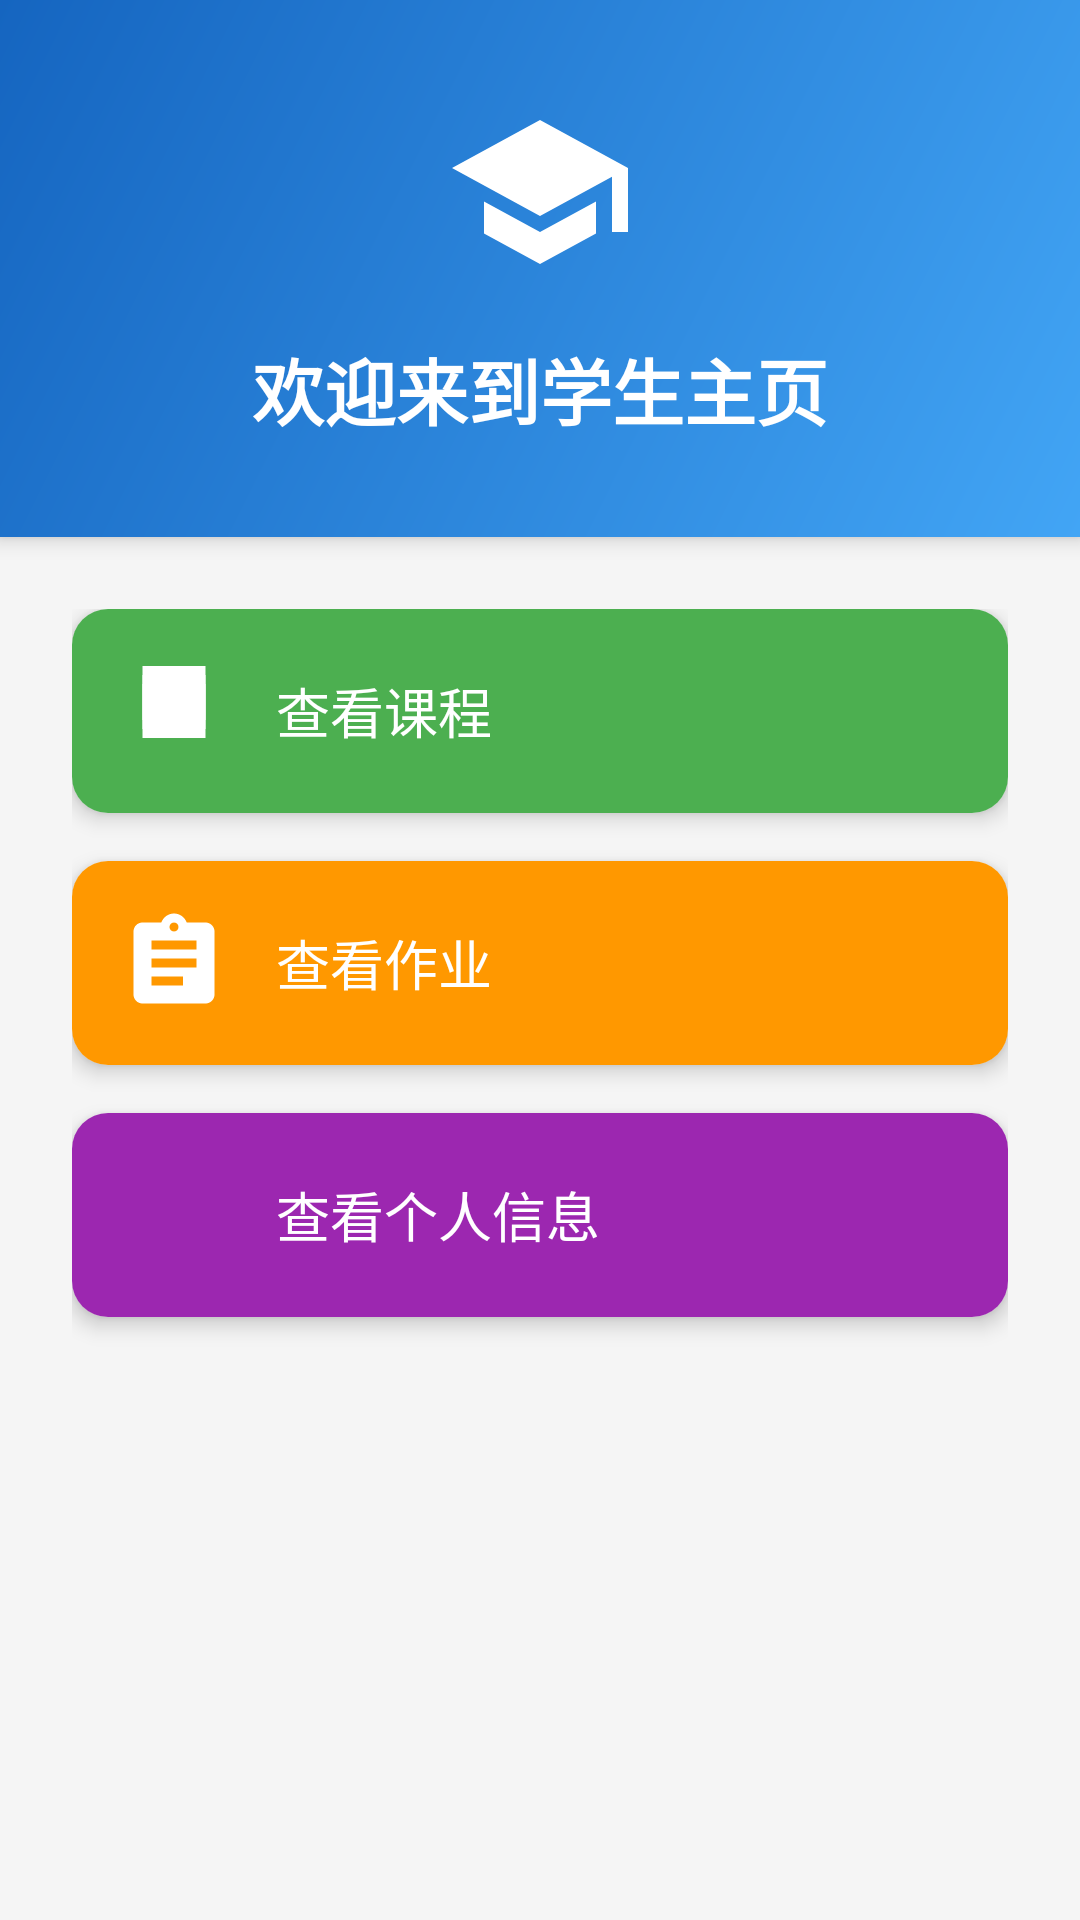

Icon bounding boxes for this 1080px×1920px phone screenshot, format (x1, y1, x2, y2):
作业图标: (133, 913, 215, 1004)
